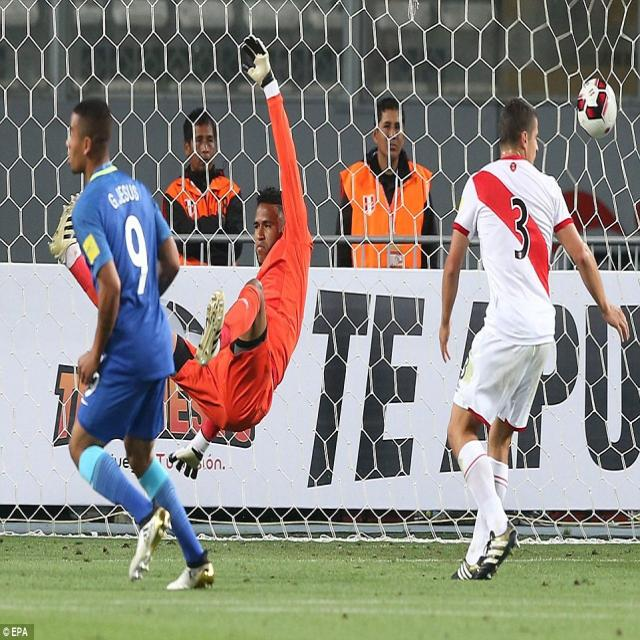body: (42, 28, 316, 482), (435, 91, 633, 586), (64, 96, 217, 593), (331, 95, 440, 268), (158, 104, 246, 268)
